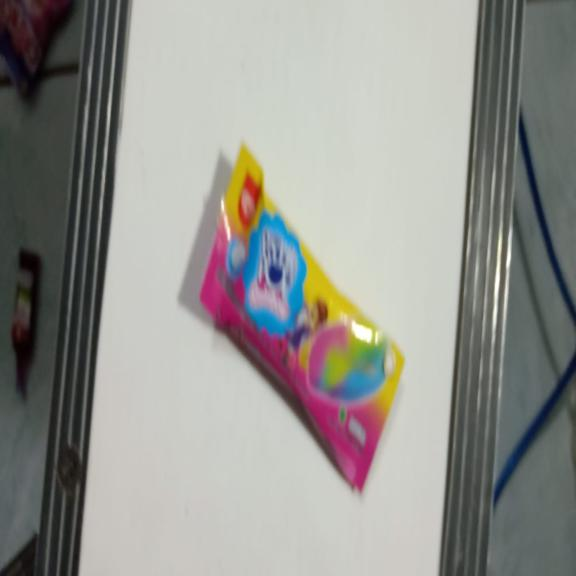Plastik: (202, 144, 404, 494)
